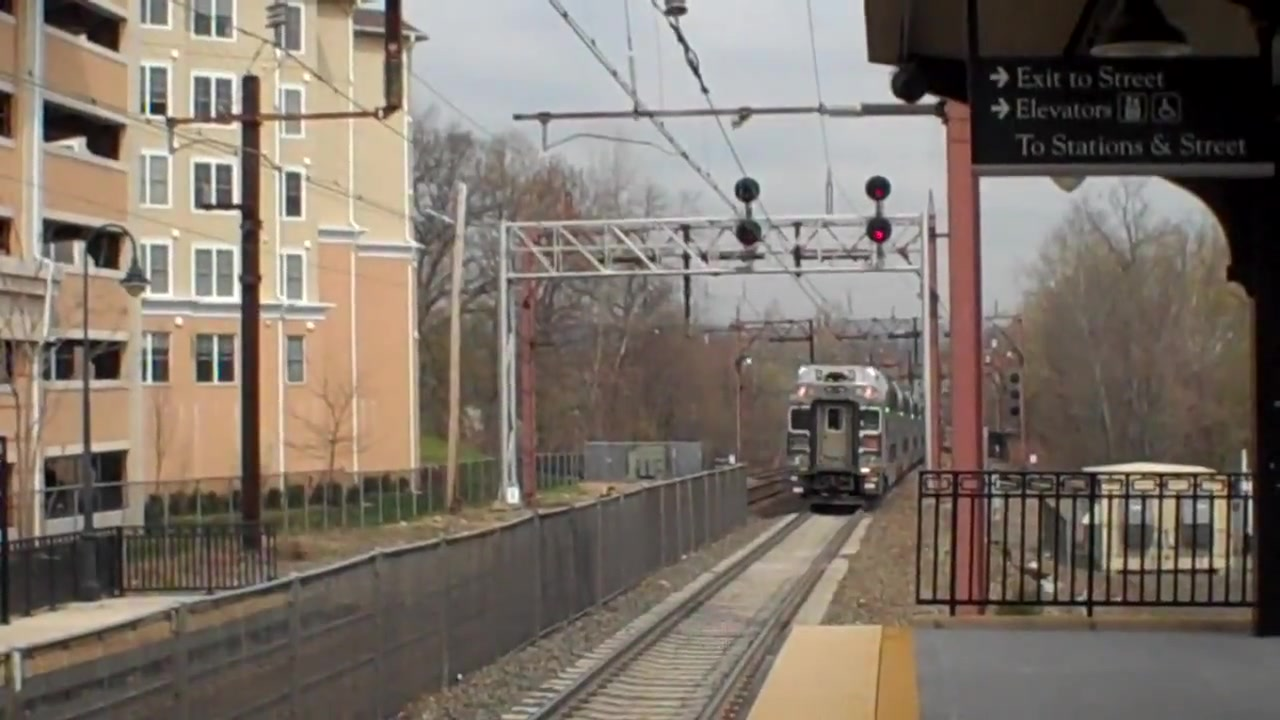train: (788, 362, 925, 509)
